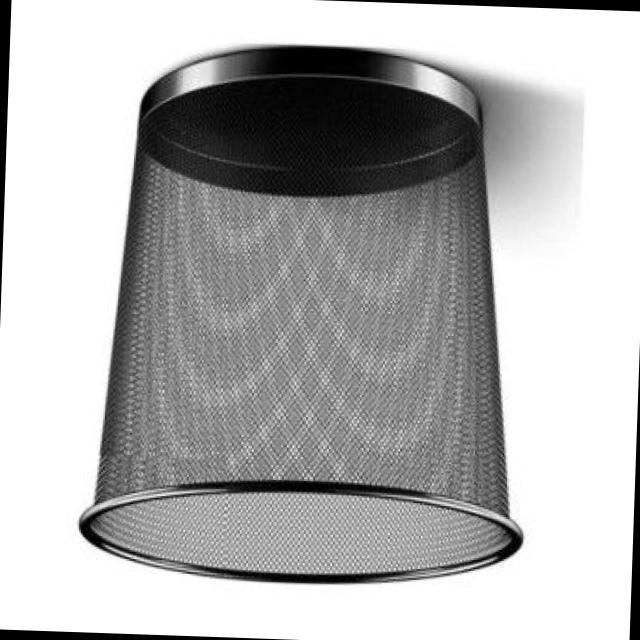dustbin: (70, 34, 550, 598)
